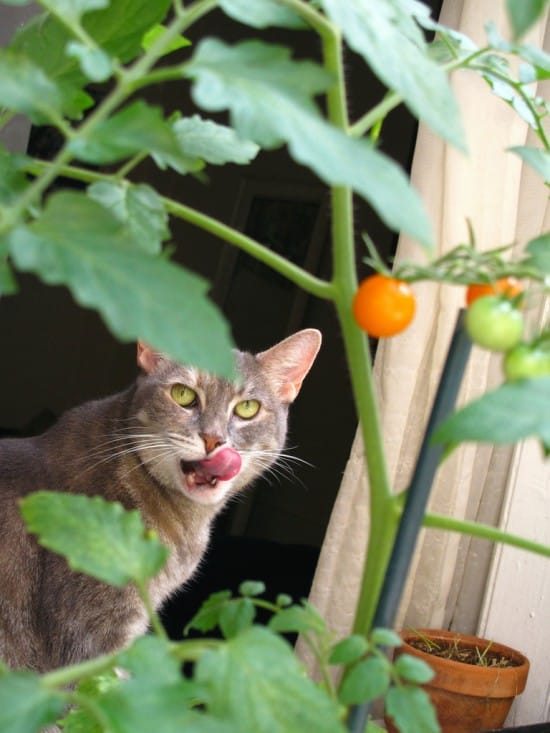cat: (1, 317, 322, 684)
